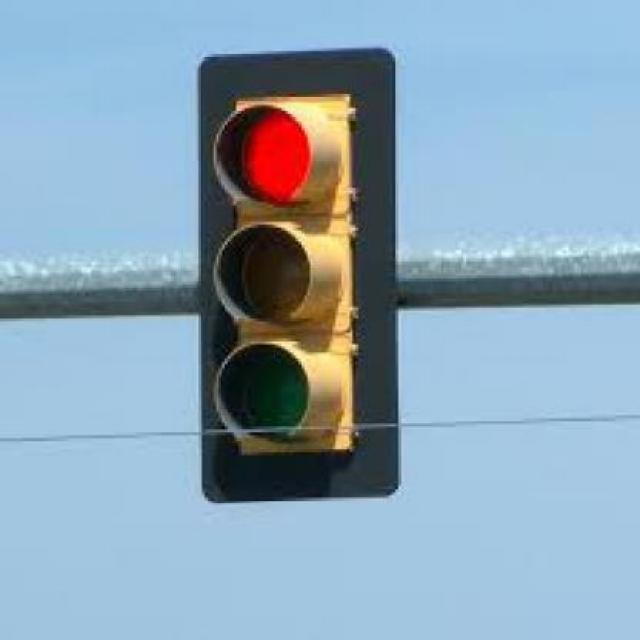traffic light: (195, 47, 400, 504)
